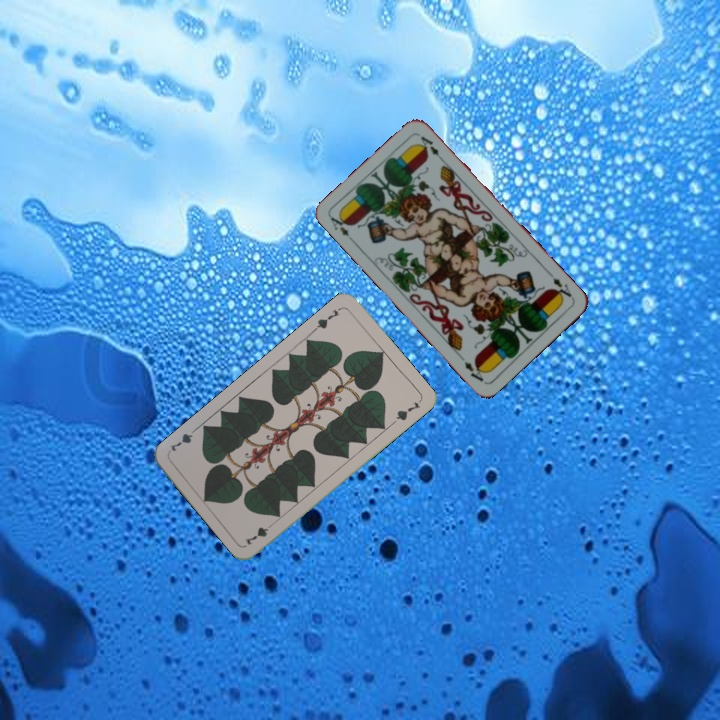EA: (326, 210, 358, 246), (544, 268, 574, 303)
G7: (241, 518, 277, 548), (310, 303, 344, 333)
